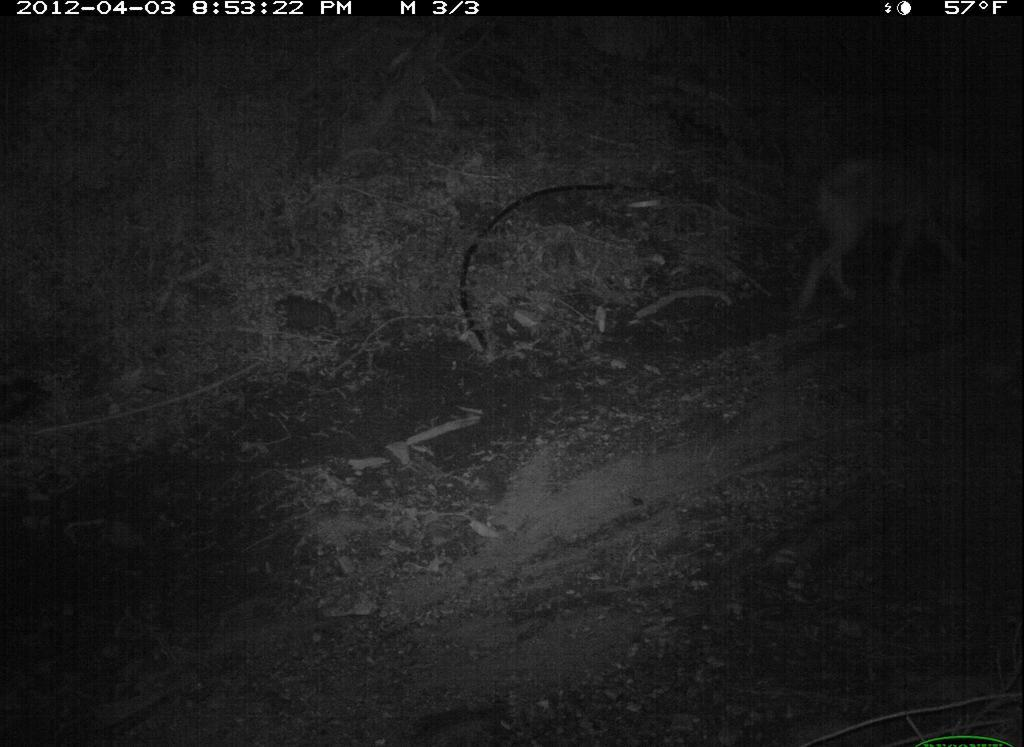dog: (793, 137, 1002, 316)
